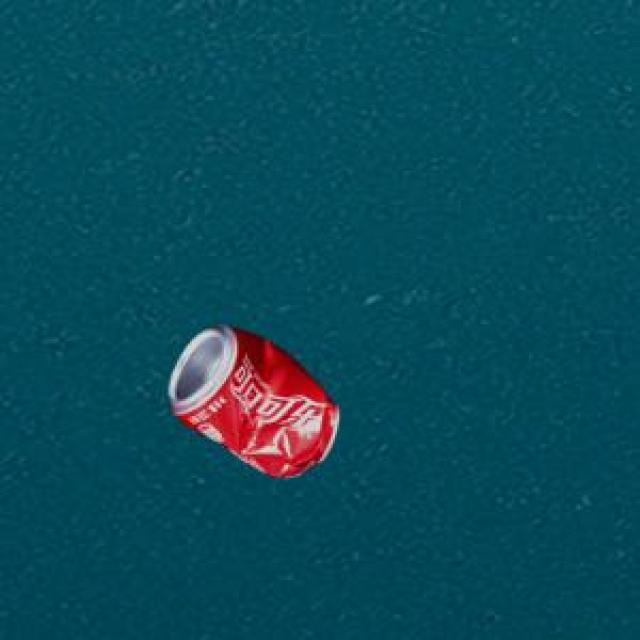logam: (167, 321, 336, 475)
